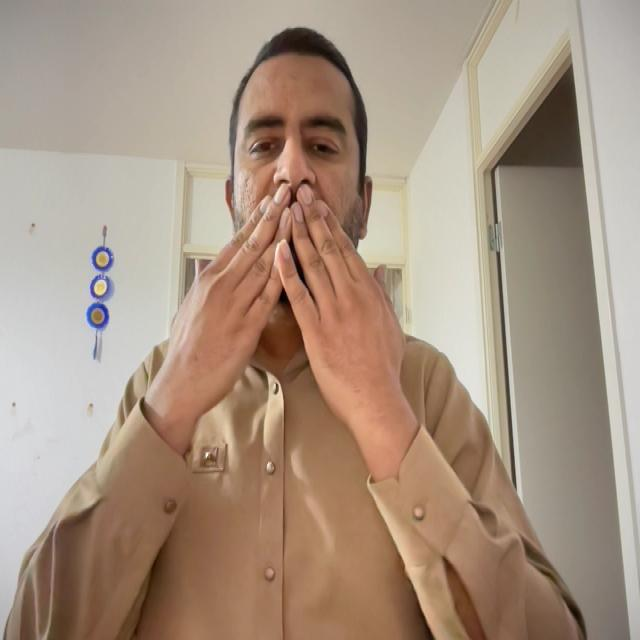Thanks: (118, 167, 475, 500)
